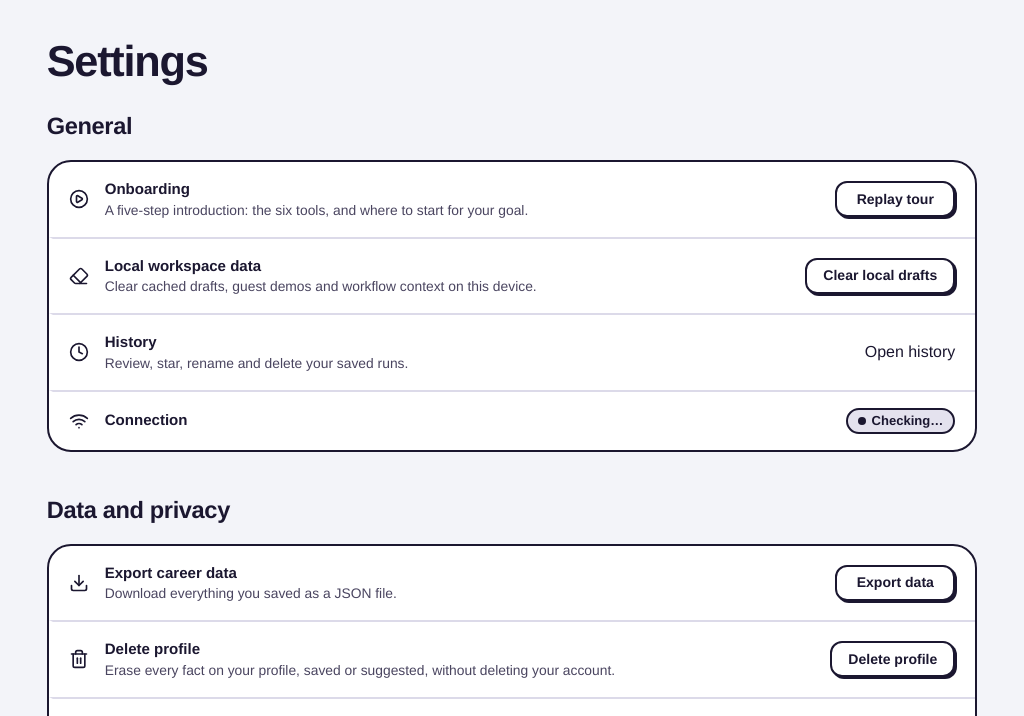
Test case: Settings privacy controls › keeps an erasure failure visible inside the confirmation dialog
What coordinates should you click on to do the following:
click the button "Delete profile"
I would click on:
 (893, 659)
Its box is left=830, top=641, right=955, bottom=677.
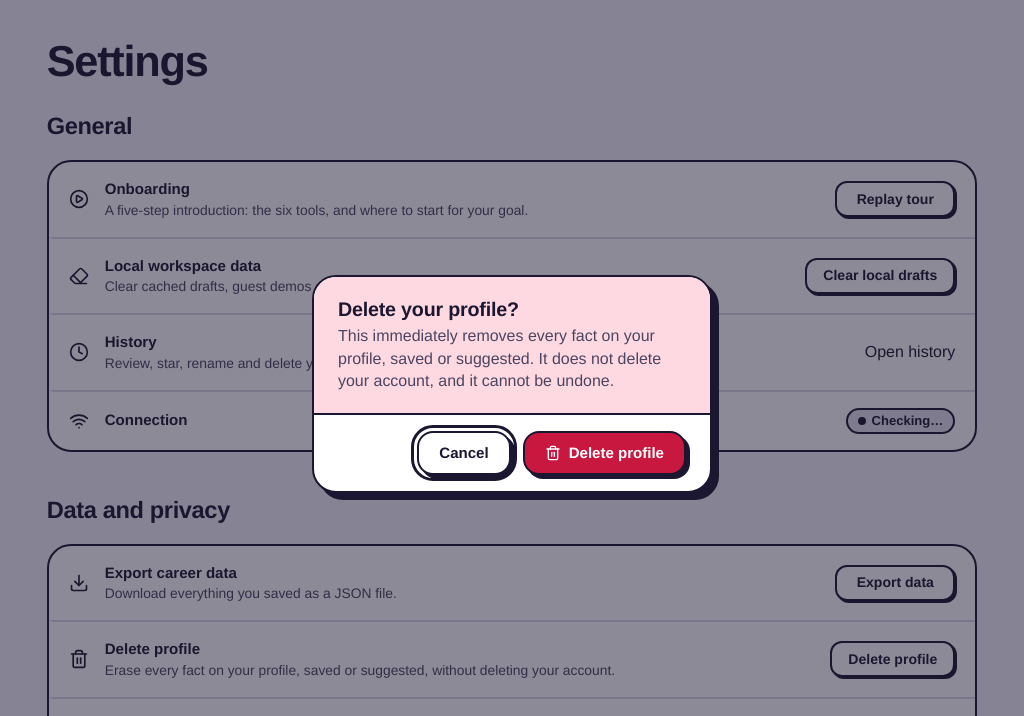
What coordinates should you click on to do the following:
click the button "Delete profile"
I would click on:
 (604, 453)
Its box is left=523, top=431, right=686, bottom=475.
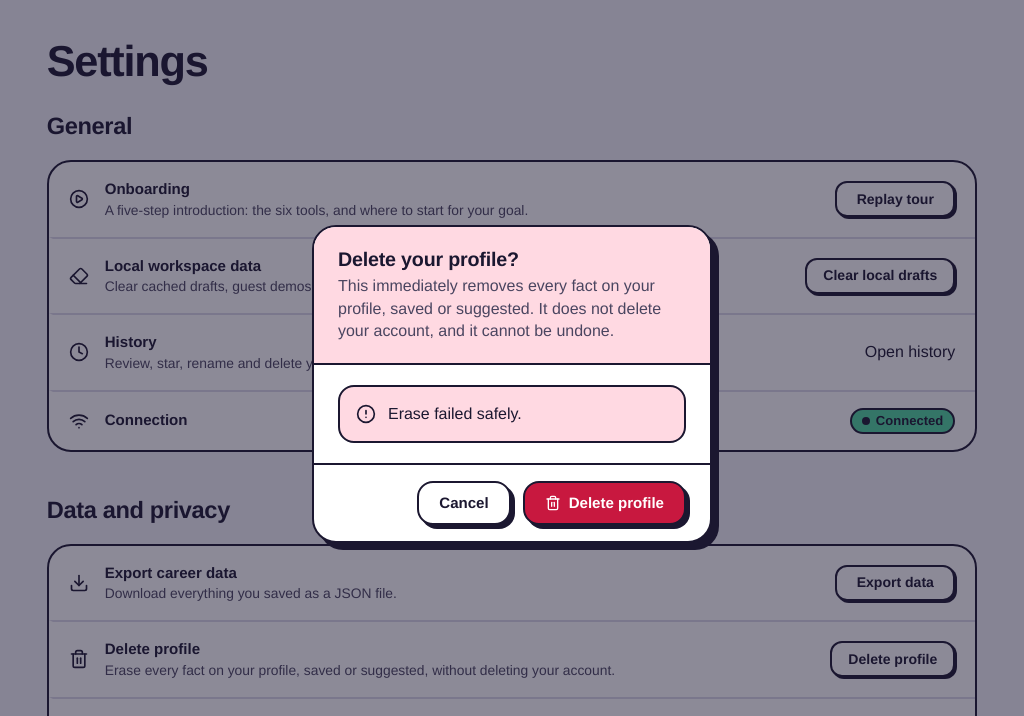
Expected: the message reads "Erase failed safely.", left=388, top=404, right=522, bottom=424
